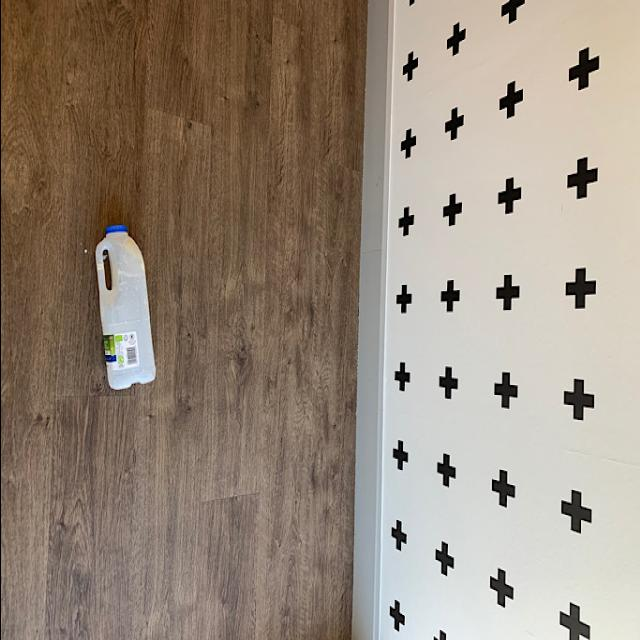litter: (91, 220, 155, 386)
